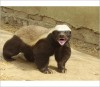badger: (3, 23, 73, 74)
